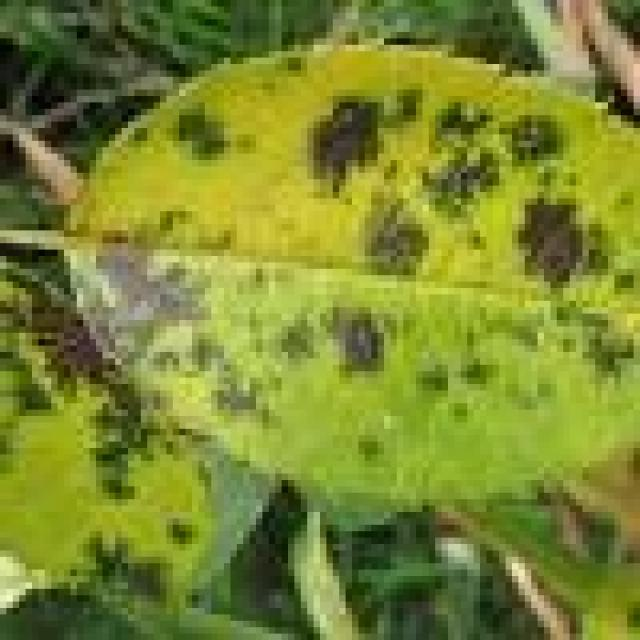black-spot: (45, 83, 608, 512)
